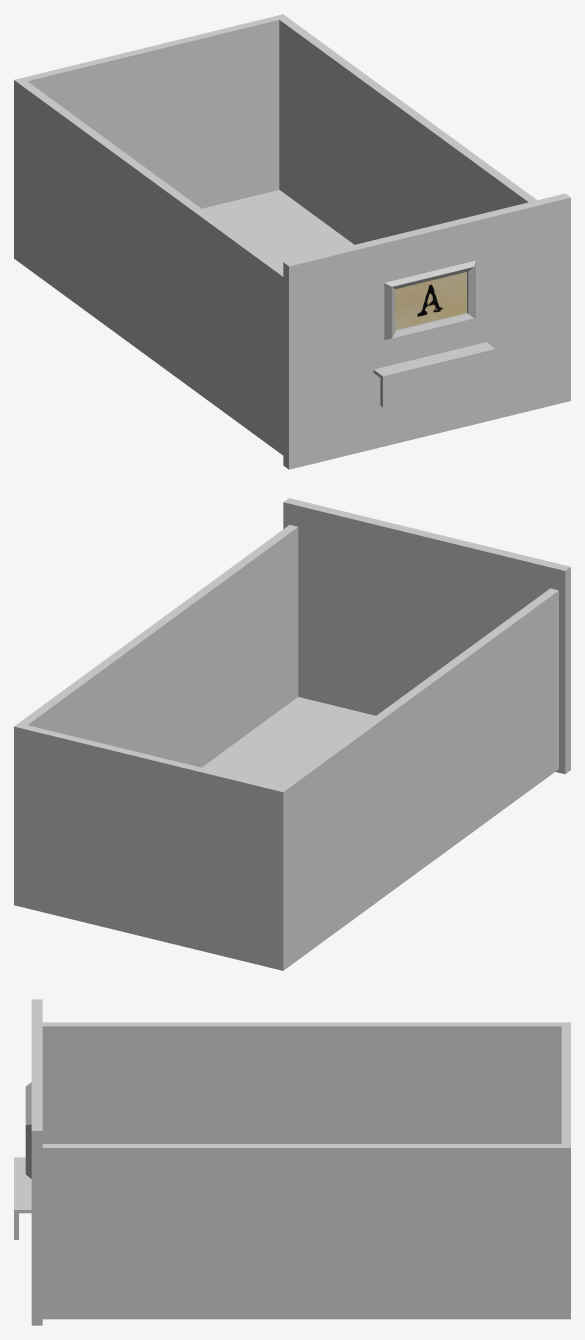
File: WardRecordDrawer.fbx
3 views of the same model, one above another, from view 1: azimuth 30°, elevation 25°; view 2: azimuth 150°, elevation 25°; view 3: azimuth 270°, elevation 25° (orthographic). The views are drawn at different scales.
Parts seen in each view (by area): view 1: WardRecordDrawer, LabelWindow, DrawerHand; view 2: WardRecordDrawer; view 3: WardRecordDrawer, DrawerHand, LabelWindow.
Part boxes in pixels (left/top/right/bottom): WardRecordDrawer: left=14, top=14, right=570, bottom=469; LabelWindow: left=384, top=260, right=475, bottom=339; DrawerHand: left=373, top=342, right=495, bottom=407; WardRecordDrawer: left=14, top=498, right=570, bottom=970; WardRecordDrawer: left=31, top=999, right=570, bottom=1325; DrawerHand: left=14, top=1157, right=31, bottom=1239; LabelWindow: left=25, top=1082, right=31, bottom=1178.
Bounding box in the file's own units: 232 × 160 × 415.
